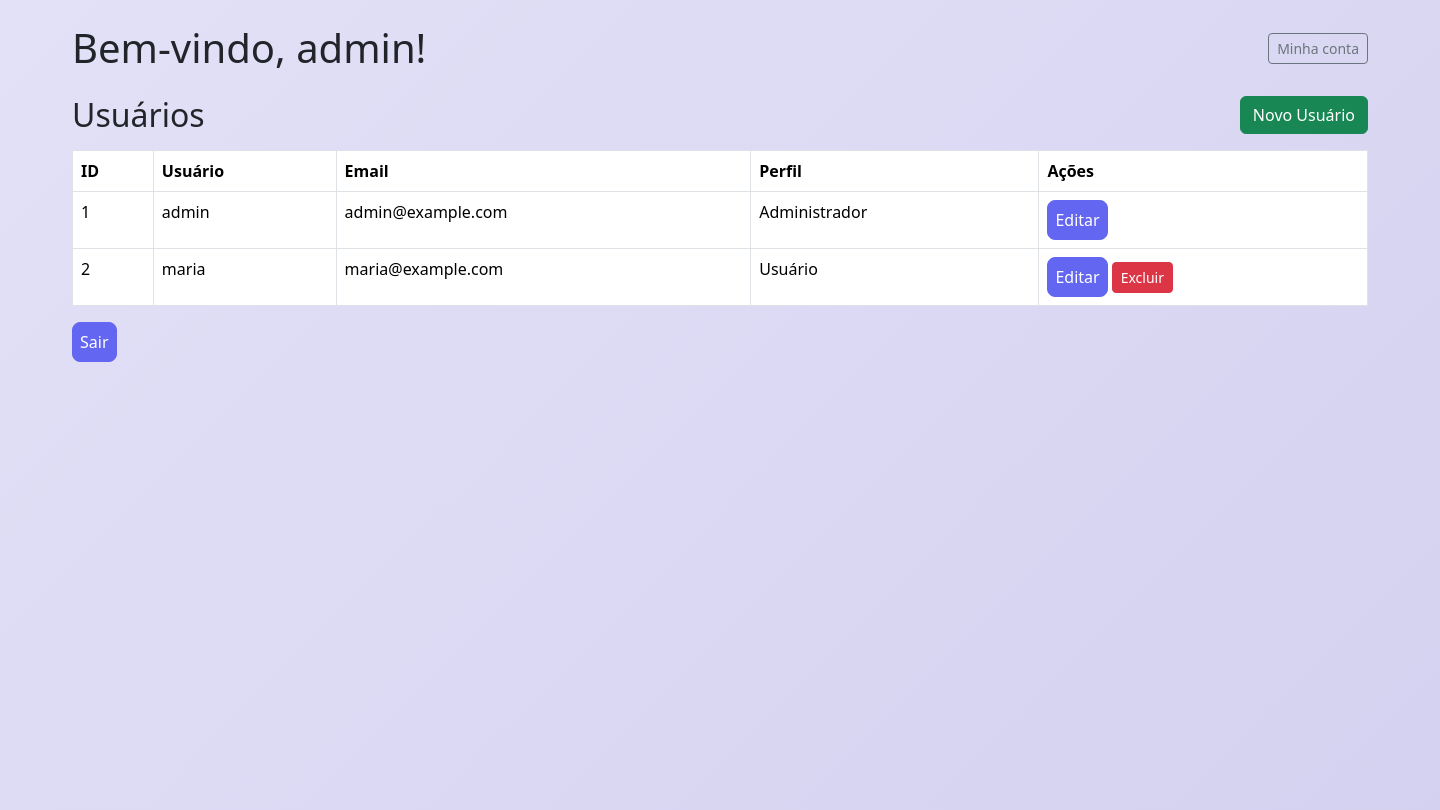
Test: painel admin › leva à página Minha conta pelo cabeçalho
Click the link "Minha conta".
click(1318, 48)  # box [1268,32,1368,64]
(page scrolled)
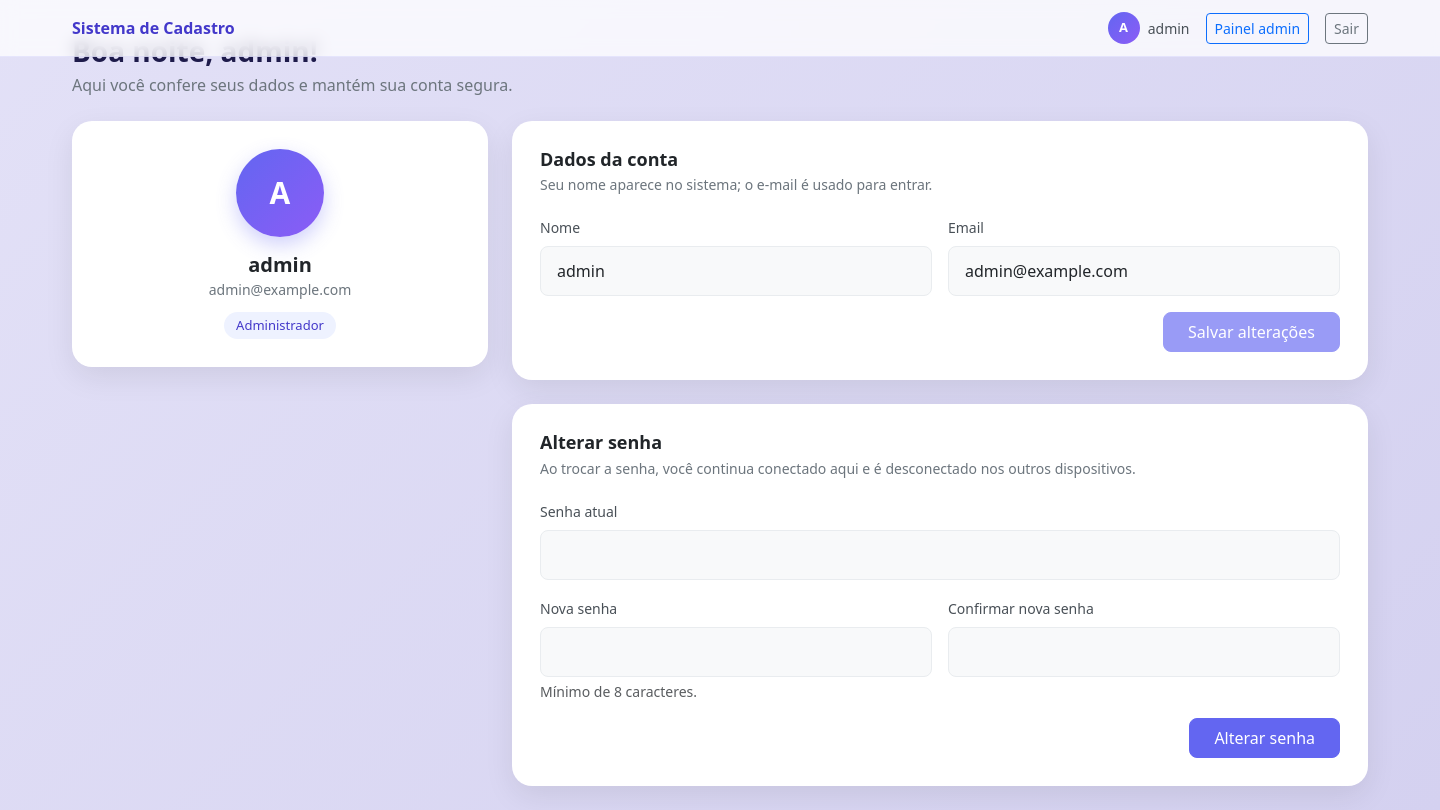
expect the element "Alterar senha" is shown: met, box [512,404,1368,786]
